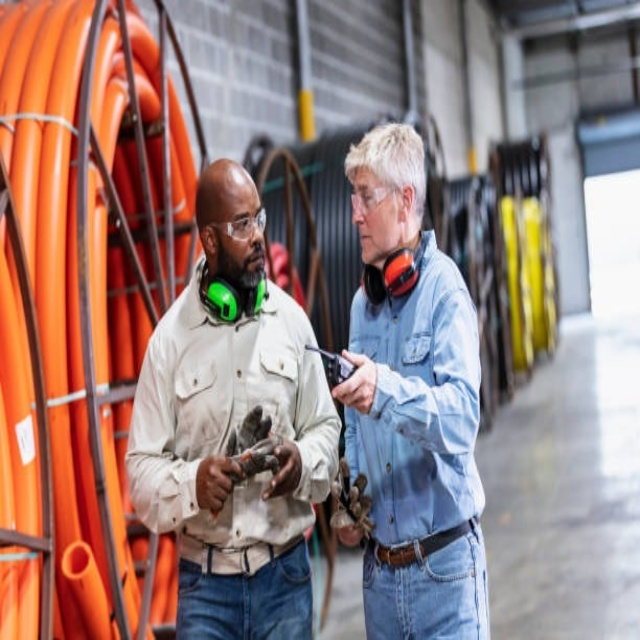Gafas: (207, 207, 267, 243), (350, 184, 400, 215)
Sin_guantes: (198, 444, 244, 523), (328, 346, 375, 412), (261, 431, 300, 506)
Sin_mascara: (242, 242, 267, 280), (357, 224, 382, 261)
